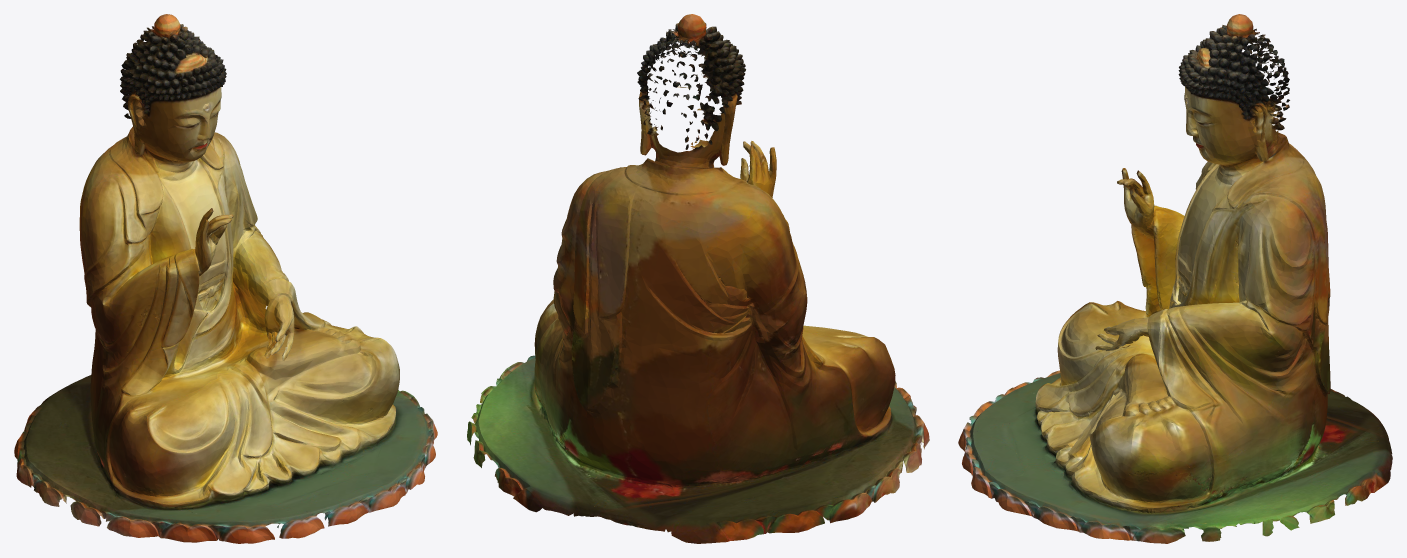
File: buddha.glb
3 views of the same model, side by side, from view 1: azimuth 30°, elevation 25°; view 2: azimuth 150°, elevation 25°; view 3: azimuth 270°, elevation 25° (orthographic). The views are drawn at different scales.
Visible parts, largest first — view 1: Buddha; view 2: Buddha; view 3: Buddha.
Boxes of the visible parts, left/top/right/bottom form: Buddha: left=14, top=14, right=437, bottom=543; Buddha: left=467, top=14, right=929, bottom=543; Buddha: left=958, top=14, right=1392, bottom=543.
Size of the model in its own units: 0.8986 by 1 by 0.9072.
Materials: 1 (1 with a texture image).
